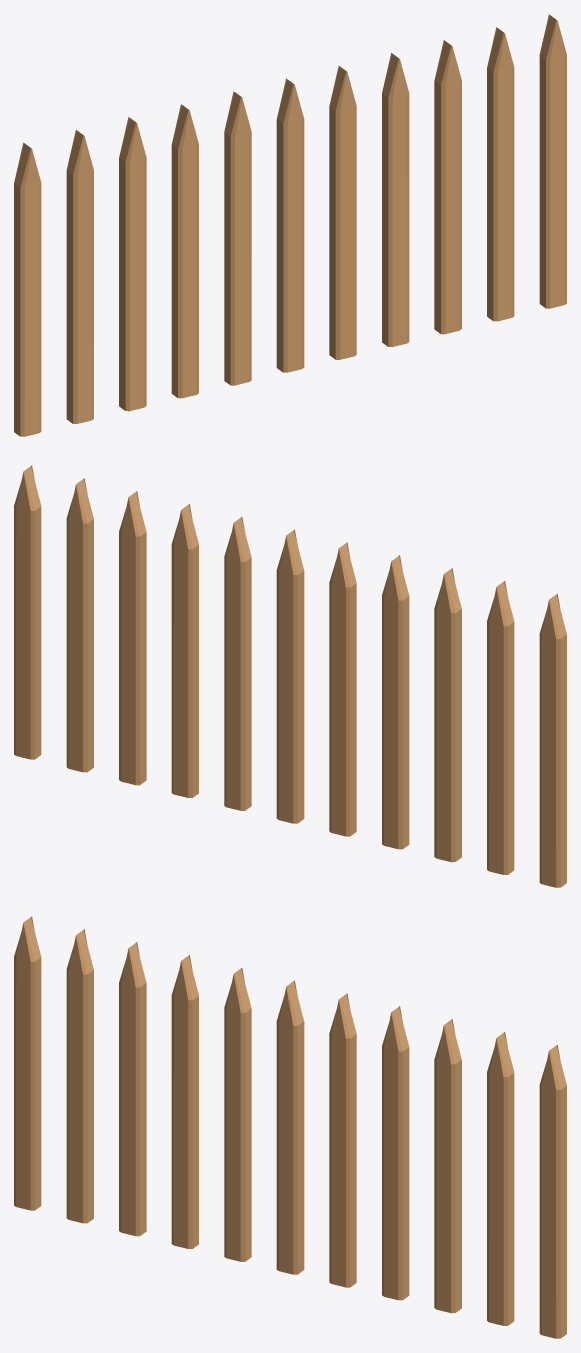
File: mdl_franch_cliffside_gate_condor.gltf
3 views of the same model, one above another, from view 1: azimuth 30°, elevation 25°; view 2: azimuth 150°, elevation 25°; view 3: azimuth 330°, elevation 25° (orthographic).
Parts seen in each view (by area): view 1: Cube.017; view 2: Cube.017; view 3: Cube.017.
Part boxes in pixels (box(x1,y1,x2,y2)): Cube.017: box(14, 14, 566, 436); Cube.017: box(14, 465, 566, 887); Cube.017: box(14, 916, 566, 1338).
Size of the model in its own units: 1.24 by 0.6196 by 0.0341.
